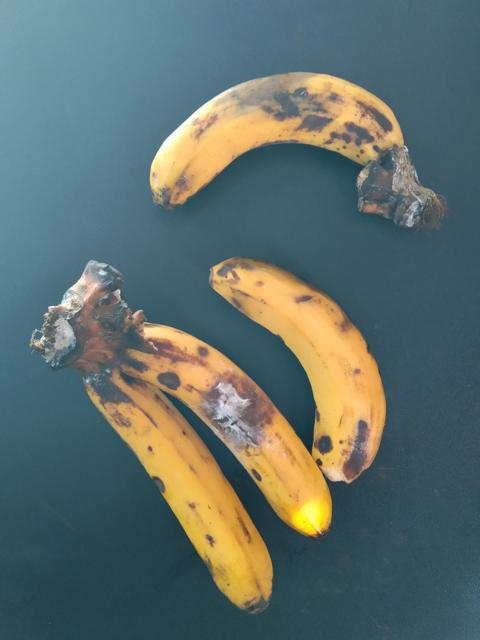overripe: (193, 220, 421, 482), (89, 370, 299, 624), (133, 324, 345, 539), (123, 64, 405, 215)
rotten: (170, 358, 299, 507)
